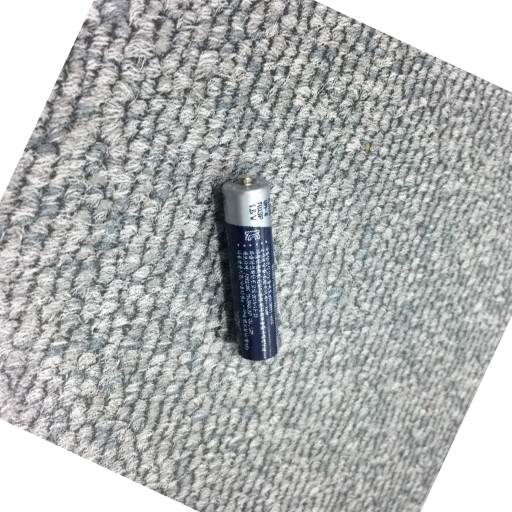Battery_0: (210, 168, 289, 369)
